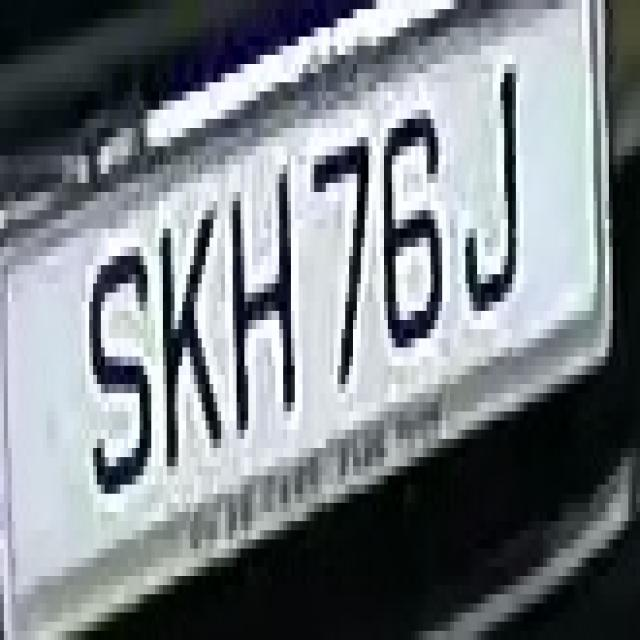6: (376, 91, 446, 375)
7: (306, 128, 372, 393)
H: (221, 156, 295, 457)
J: (458, 55, 535, 338)
K: (147, 183, 229, 494)
S: (85, 210, 159, 530)
